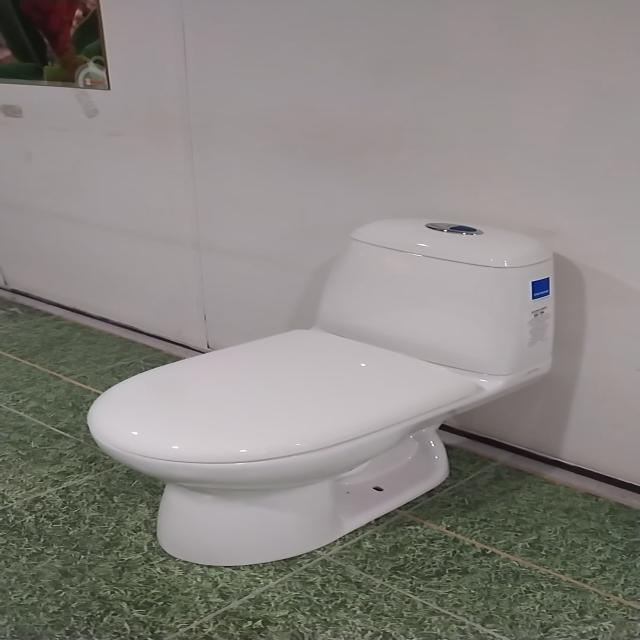toilet: (85, 216, 556, 567)
